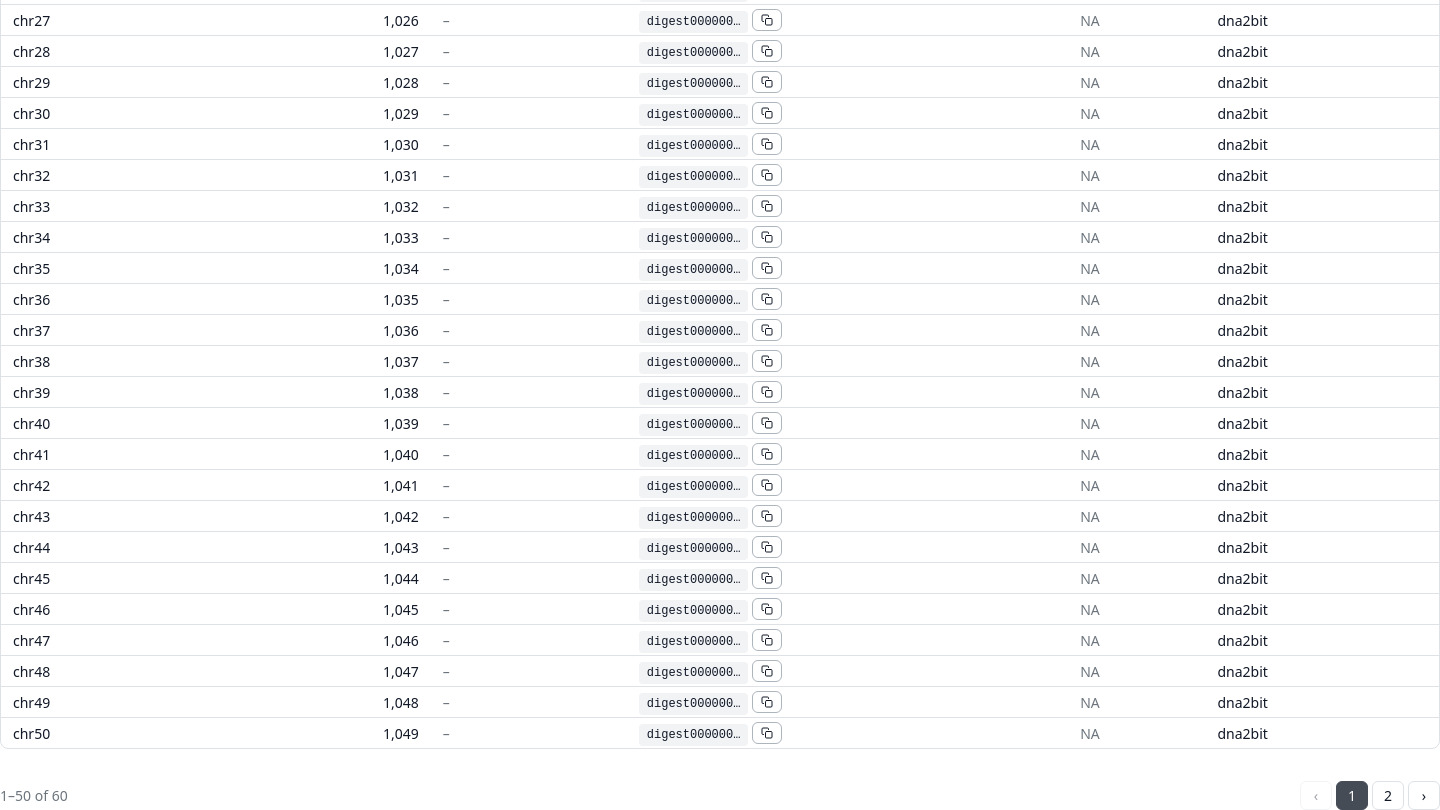
Test: SequenceTable › pages at 50 rows
This screenshot has width=1440, height=810.
(page scrolled)
Expected: the text "chr51" is not shown
Step 1. Click the button named "Next page" → (1424, 796), box [1408, 781, 1439, 809]
(page scrolled)
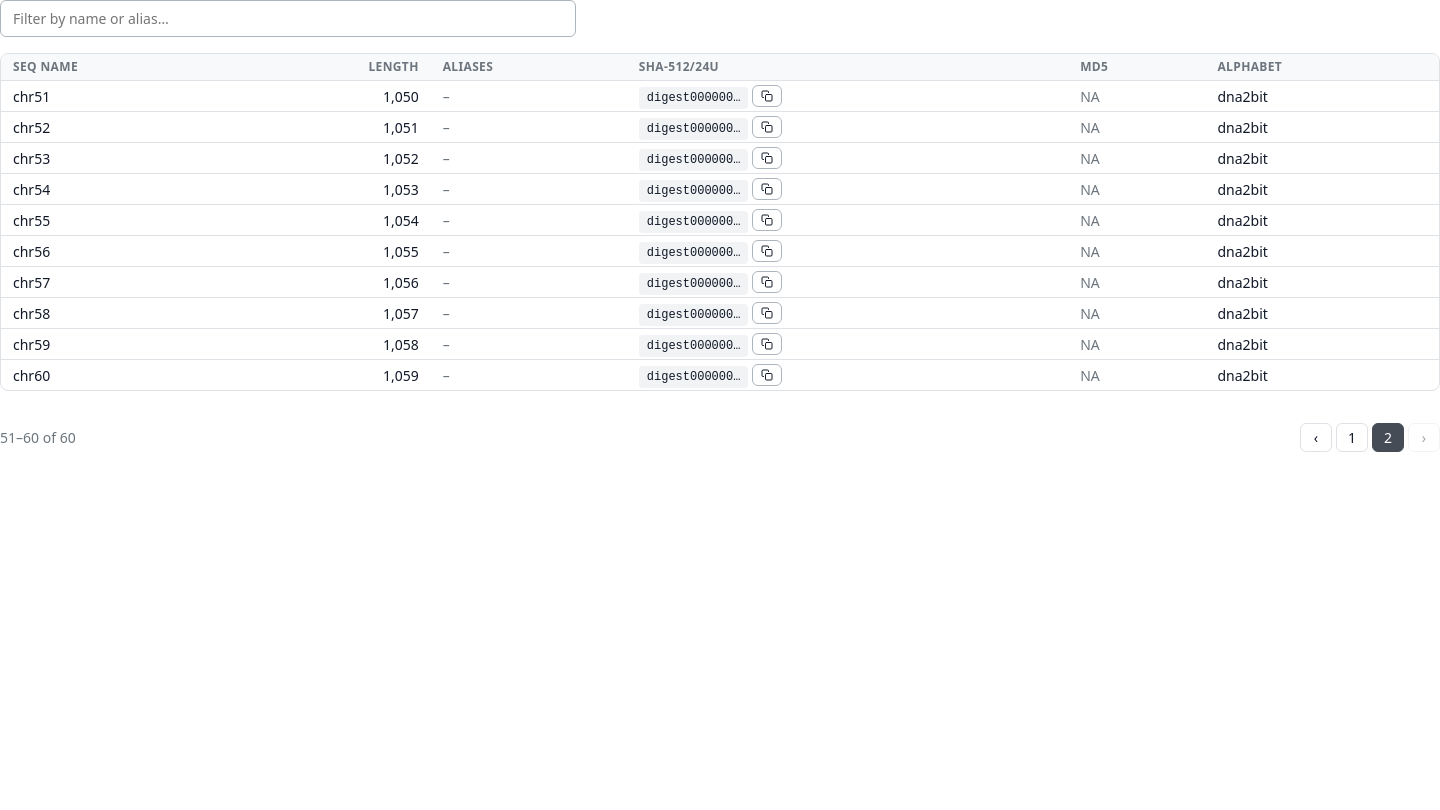
Expected: the text "chr51" is shown, [1, 80, 235, 112]
